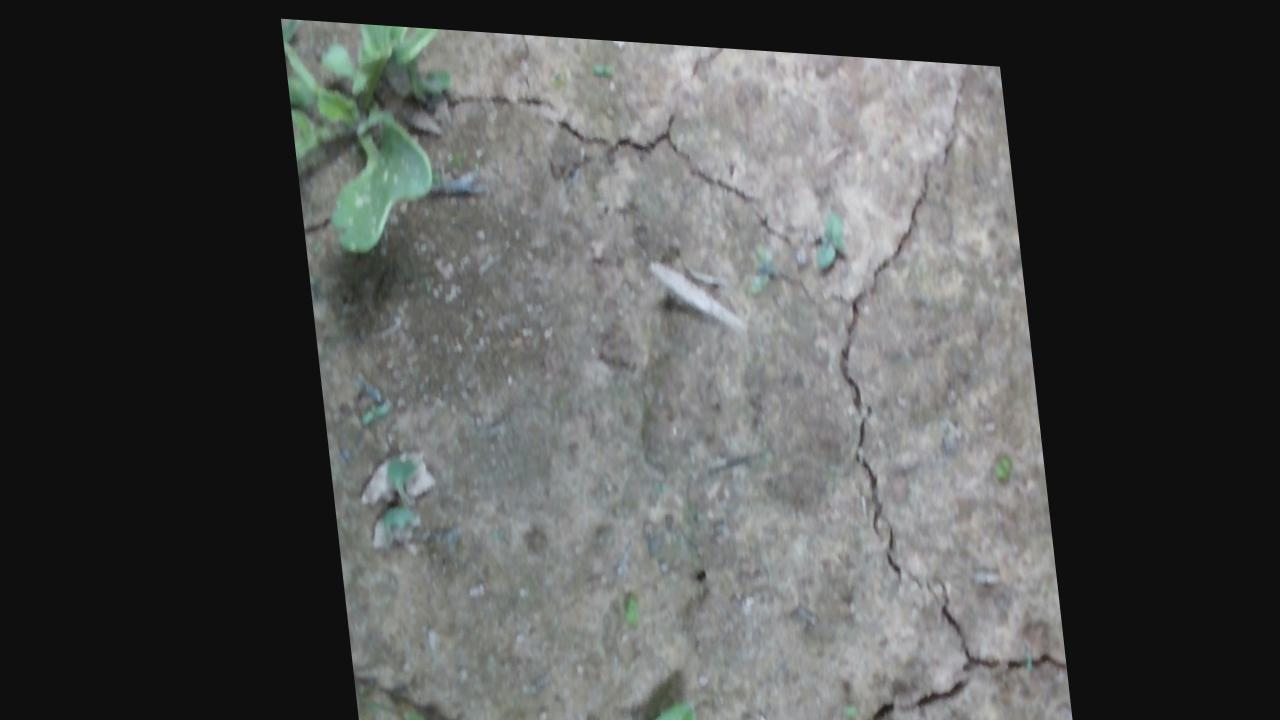weed: (592, 52, 617, 67)
